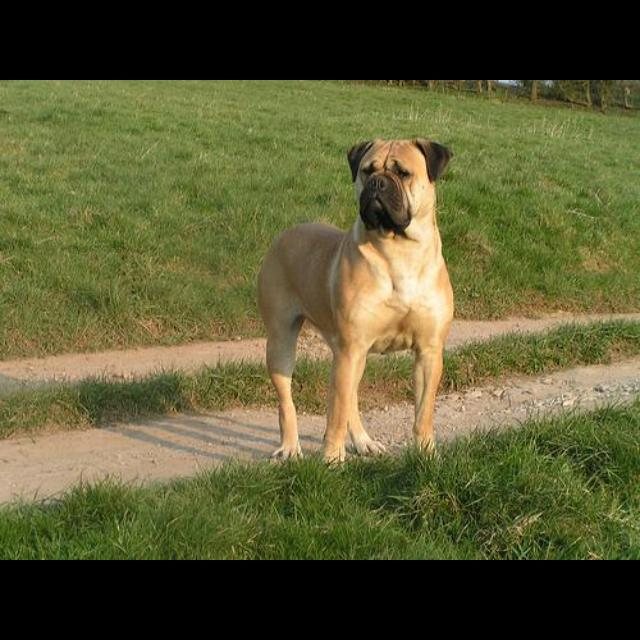bullmastiff: (257, 138, 456, 470)
